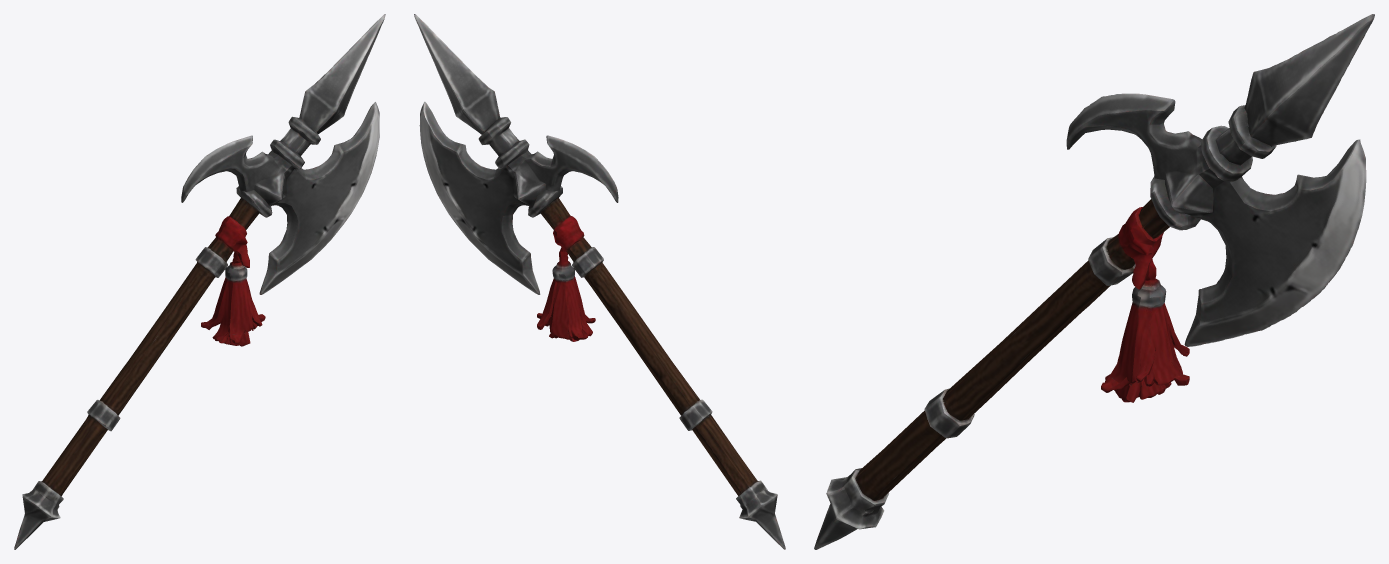
Rendered from halberd_low.glb.
3 renders of one model, left to right at view 1: azimuth 30°, elevation 25°; view 2: azimuth 150°, elevation 25°; view 3: azimuth 330°, elevation 25°, orthographic. The views are drawn at different scales.
Visible parts, largest first — view 1: world; view 2: world; view 3: world.
Part boxes in pixels (bbox=[...]): world: bbox=[14, 14, 385, 549]; world: bbox=[414, 14, 785, 549]; world: bbox=[814, 14, 1374, 549].
Bounding box in the file's own units: 0.875 × 1 × 0.1306.
Materials: 1 (1 with a texture image).
